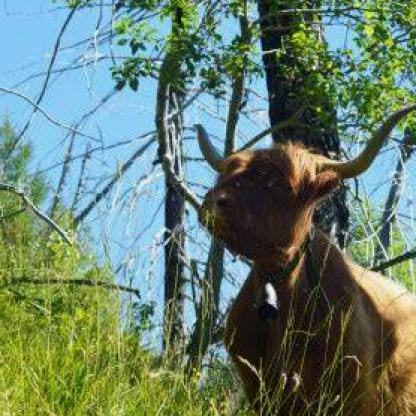cow: (190, 100, 415, 415)
